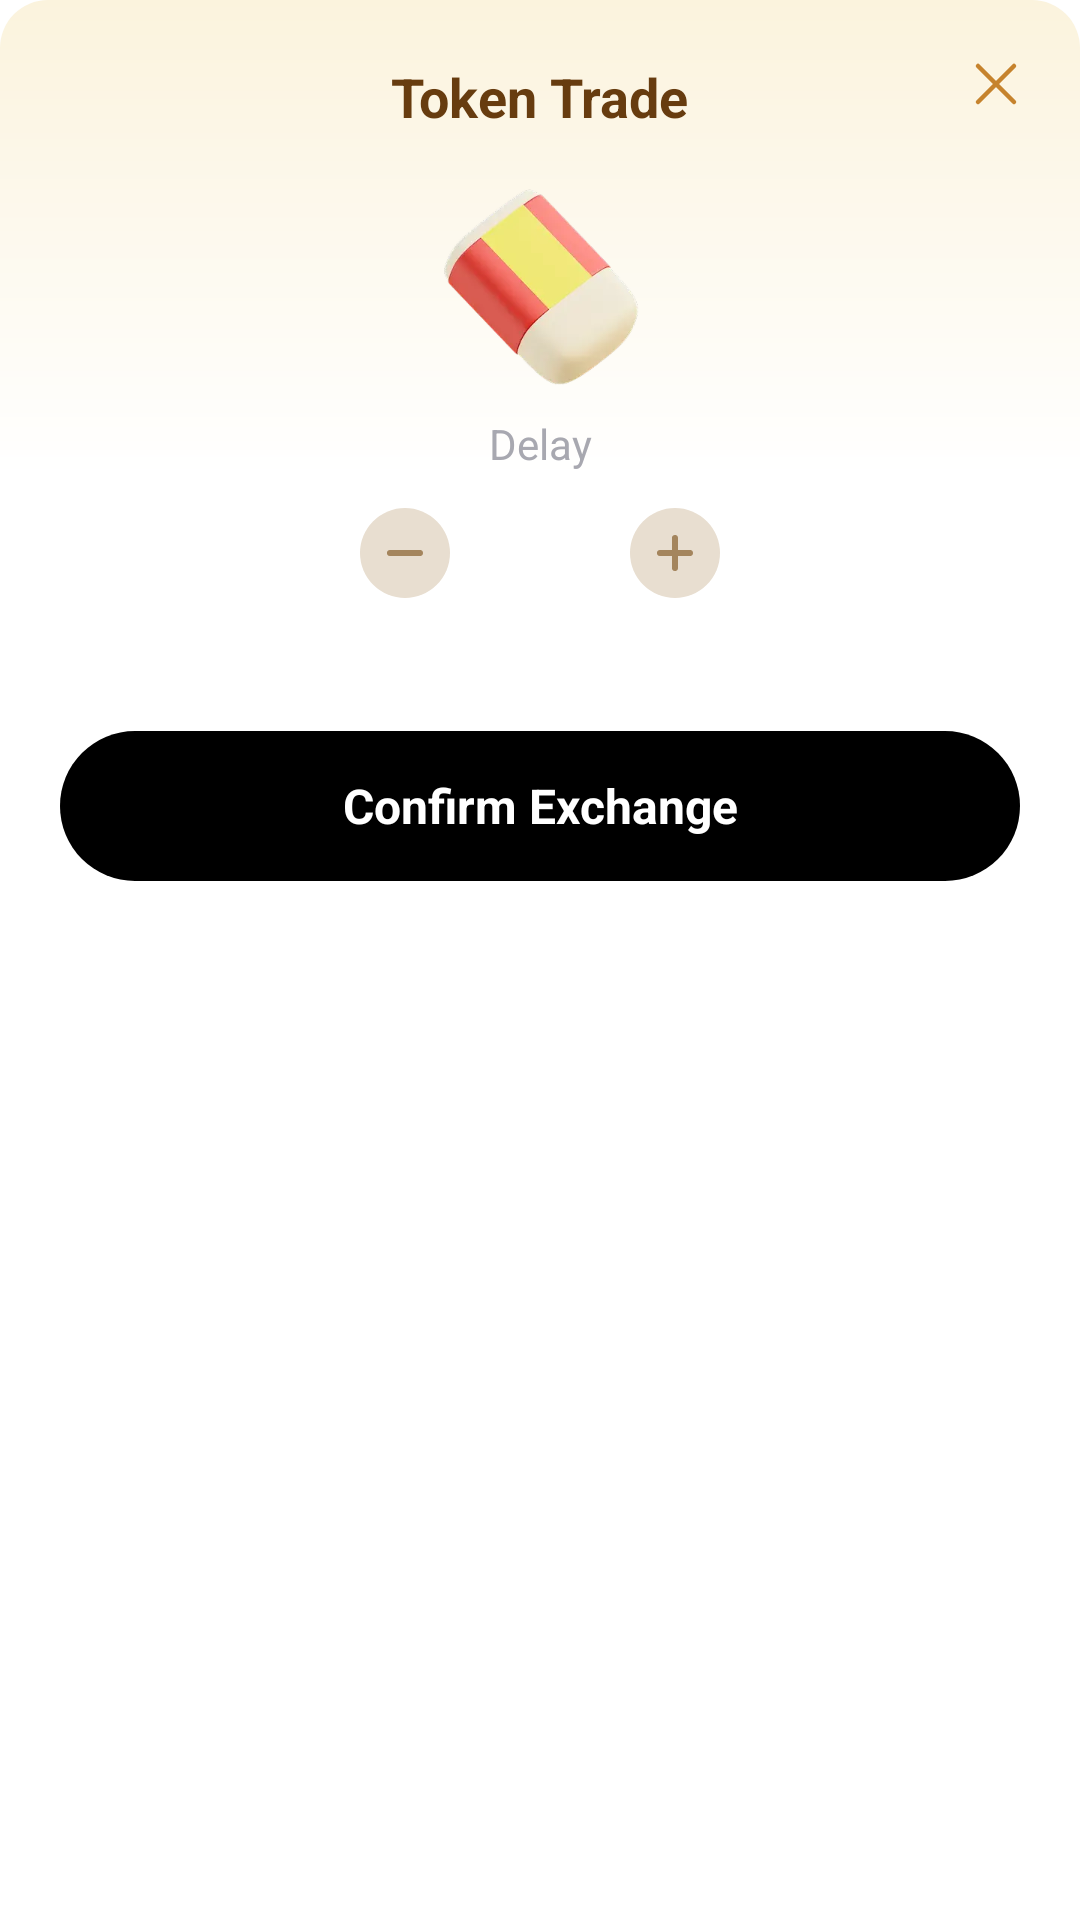

Point at icon controls on the screen. Image size 1080×1920, points as (x=x, y=y).
cancel: (x=995, y=84)
eraser: (x=540, y=289)
token add: (x=675, y=553)
token subtract: (x=405, y=553)
